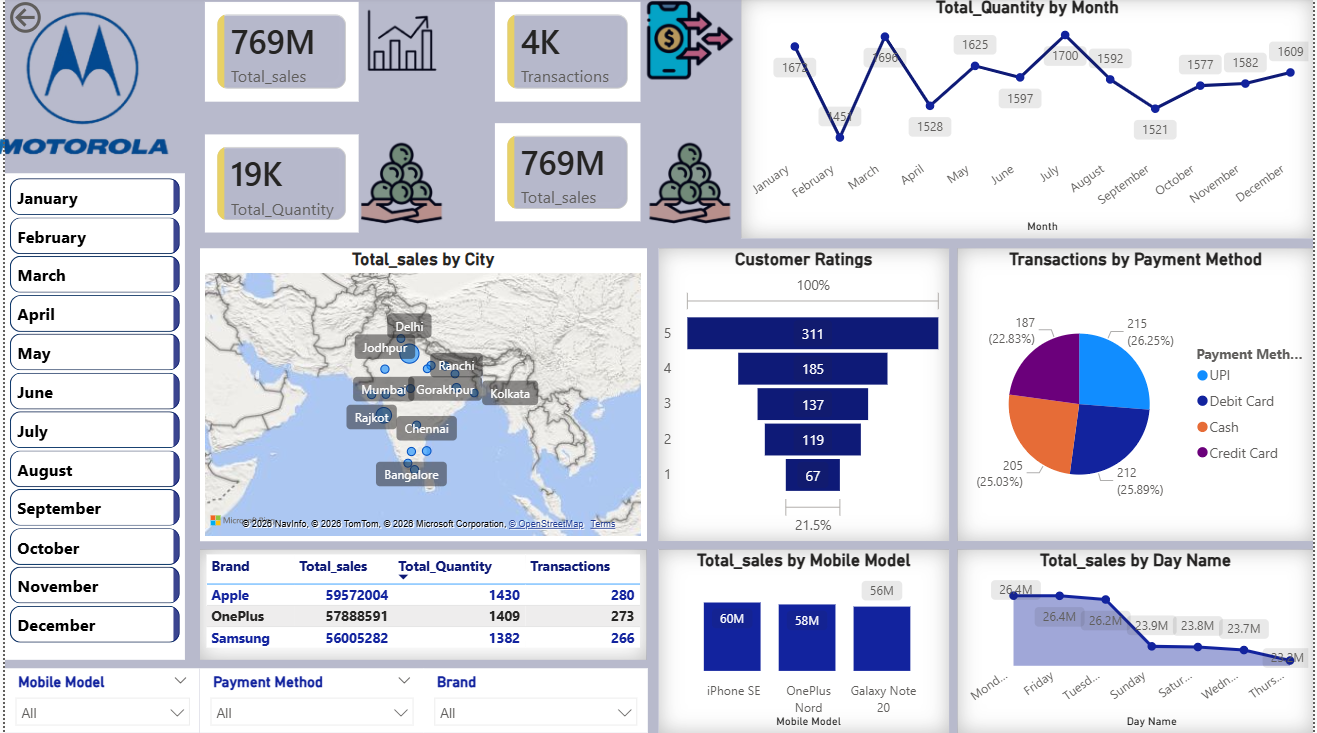

The page's visual inventory and layout, read from the dashboard file:
{"tool":"powerbi","page":{"name":"Page 1","canvas":[1280,720],"ordinal":0},"visuals":[{"type":"listSlicer","fields":{"Values":["Sales Data.Date.Variation.Date Hierarchy.Month"]},"box":[0,172.4,176.1,475.7],"z":0},{"type":"cardVisual","fields":{"Data":["Sales Data.Total_sales"]},"box":[190.8,0,160.2,107.6],"z":1000},{"type":"cardVisual","fields":{"Data":["Sales Data.Total_Quantity"]},"box":[190.8,129.6,160.2,106.4],"z":2000},{"type":"cardVisual","fields":{"Data":["Sales Data.Transactions"]},"box":[474.5,0,152.9,107.6],"z":3000},{"type":"cardVisual","fields":{"Data":["Sales Data.Total_sales"]},"box":[474.5,118.6,152.9,106.4],"z":4000},{"type":"map","fields":{"Category":["Sales Data.City"],"Size":["Sales Data.Total_sales"]},"box":[190.8,245.8,436.6,286.1],"z":5000},{"type":"lineChart","fields":{"Y":["Sales Data.Total_Quantity"],"Category":["Sales Data.Date.Variation.Date Hierarchy.Month","Sales Data.Date.Variation.Date Hierarchy.Day"]},"box":[720.2,0,560.1,236],"z":6000},{"type":"clusteredColumnChart","fields":{"Y":["Sales Data.Total_sales"],"Category":["Sales Data.Mobile Model"]},"box":[639.5,540.5,283.7,179.8],"z":7000},{"type":"pieChart","fields":{"Y":["Sales Data.Transactions"],"Category":["Sales Data.Payment Method"]},"box":[931.8,245.8,348.5,286.1],"z":8000},{"type":"funnel","title":" Customer Ratings ","fields":{"Category":["Sales Data.Customer Ratings"],"Y":["CountNonNull(Sales Data.Customer Ratings)"]},"box":[639.5,245.8,283.7,286.1],"z":9000},{"type":"areaChart","fields":{"Category":["Sales Data.Day Name"],"Y":["Sales Data.Total_sales"]},"box":[931.8,540.5,348.5,179.8],"z":10000},{"type":"tableEx","fields":{"Values":["Sales Data.Brand","Sales Data.Total_sales","Sales Data.Total_Quantity","Sales Data.Transactions"]},"box":[190.8,540.5,436.6,107.6],"z":11000},{"type":"actionButton","box":[0,0,100,40],"z":12000},{"type":"slicer","fields":{"Values":["Sales Data.Payment Method"]},"box":[190.8,656.7,218.9,63.6],"z":13000},{"type":"slicer","fields":{"Values":["Sales Data.Brand"]},"box":[409.6,656.7,218.9,63.6],"z":14000},{"type":"slicer","fields":{"Values":["Sales Data.Mobile Model"]},"box":[0,656.7,190.8,63.6],"z":15000}]}

Visuals, with their boxes in screenshot pixels (x1, y1, x2, y2), scaled from the page's 1280x720 canvas onto the 1317x733 screenshot:
listSlicer - Sales Data.Date.Variation.Date Hierarchy.Month: l=0, t=176, r=181, b=660
cardVisual - Sales Data.Total_sales: l=196, t=0, r=361, b=110
cardVisual - Sales Data.Total_Quantity: l=196, t=132, r=361, b=240
cardVisual - Sales Data.Transactions: l=488, t=0, r=646, b=110
cardVisual - Sales Data.Total_sales: l=488, t=121, r=646, b=229
map - Sales Data.City x Sales Data.Total_sales: l=196, t=250, r=646, b=542
lineChart - Sales Data.Total_Quantity x Sales Data.Date.Variation.Date Hierarchy.Month: l=741, t=0, r=1316, b=240
clusteredColumnChart - Sales Data.Total_sales x Sales Data.Mobile Model: l=658, t=550, r=950, b=732
pieChart - Sales Data.Transactions x Sales Data.Payment Method: l=959, t=250, r=1316, b=542
" Customer Ratings " funnel: l=658, t=250, r=950, b=542
areaChart - Sales Data.Day Name x Sales Data.Total_sales: l=959, t=550, r=1316, b=732
tableEx - Sales Data.Brand x Sales Data.Total_sales: l=196, t=550, r=646, b=660
actionButton: l=0, t=0, r=103, b=41
slicer - Sales Data.Payment Method: l=196, t=669, r=422, b=732
slicer - Sales Data.Brand: l=421, t=669, r=647, b=732
slicer - Sales Data.Mobile Model: l=0, t=669, r=196, b=732
